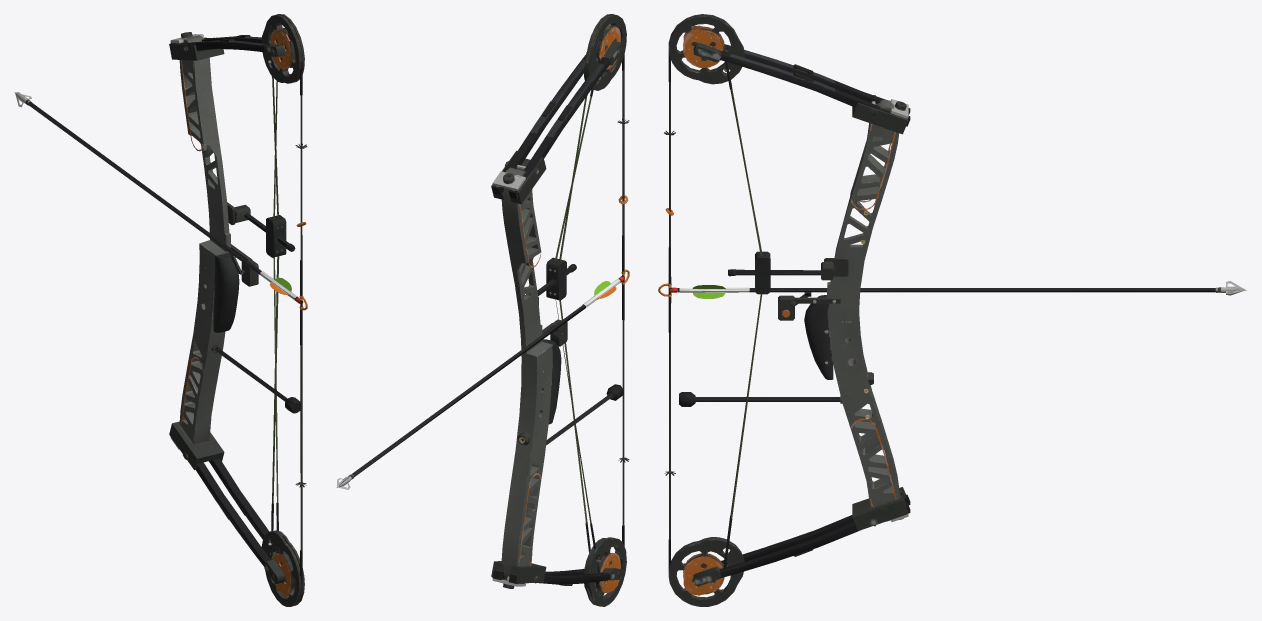
The model's file is arco_composto_leve.glb.
3 renders of one model, left to right at view 1: azimuth 30°, elevation 25°; view 2: azimuth 150°, elevation 25°; view 3: azimuth 270°, elevation 25°, orthographic.
Parts seen in each view (by area): view 1: arco_composto_leve; view 2: arco_composto_leve; view 3: arco_composto_leve.
Part boxes in pixels (x1,y1,x2,y2): arco_composto_leve: (14, 14, 307, 606); arco_composto_leve: (336, 14, 629, 606); arco_composto_leve: (658, 14, 1246, 606).
Bounding box in the file's own units: 0.0658 × 0.8639 × 0.7815.
Materials: 1 (1 with a texture image).
